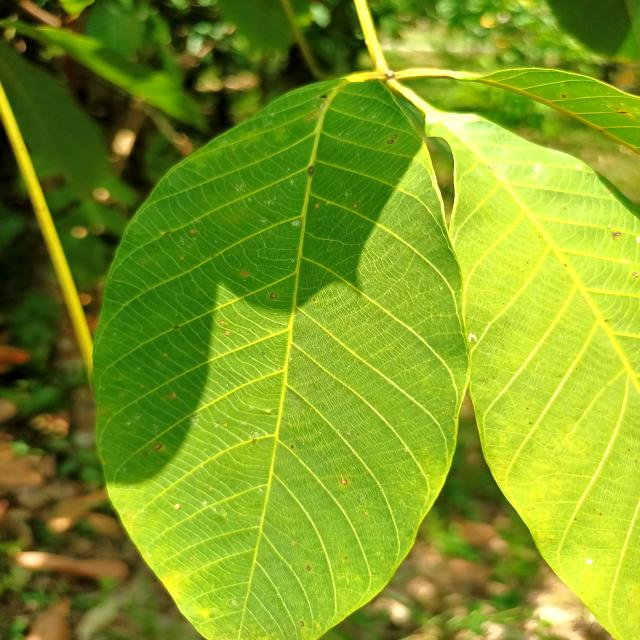Colletotrichum: (154, 443, 163, 450), (340, 478, 348, 484), (632, 272, 638, 278), (391, 135, 398, 139), (270, 294, 276, 298), (388, 140, 394, 144), (306, 566, 311, 570), (300, 621, 304, 626), (141, 260, 144, 264), (221, 321, 225, 324), (313, 299, 315, 301)
